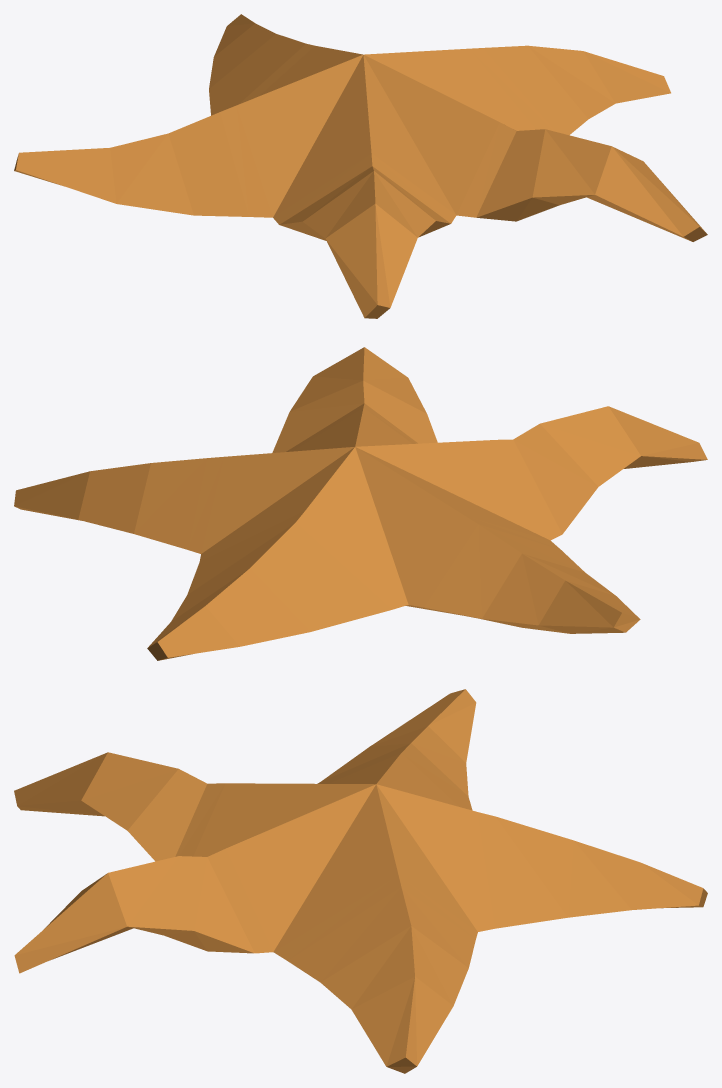
Rendered from BR_Staryu-Shiny01.obj.
3 views of the same model, one above another, from view 1: azimuth 30°, elevation 25°; view 2: azimuth 150°, elevation 25°; view 3: azimuth 270°, elevation 25° (orthographic). The views are drawn at different scales.
Parts seen in each view (by area): view 1: hitodeman; view 2: hitodeman; view 3: hitodeman.
Part boxes in pixels (left/top/right/bottom): hitodeman: left=14, top=14, right=707, bottom=318; hitodeman: left=14, top=347, right=707, bottom=660; hitodeman: left=14, top=689, right=707, bottom=1073.
Size of the model in its own units: 8.45 by 1.88 by 7.77.
